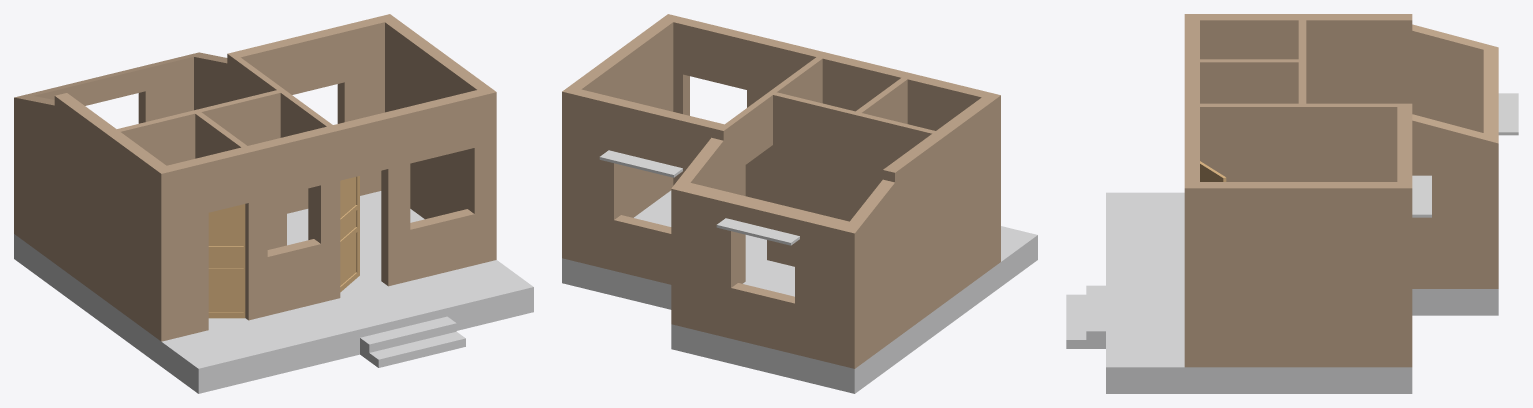
File: House_Type_4.glb
3 views of the same model, side by side, from view 1: azimuth 30°, elevation 25°; view 2: azimuth 150°, elevation 25°; view 3: azimuth 270°, elevation 25° (orthographic). The views are drawn at different scales.
Parts seen in each view (by area): view 1: imagetostl_mesh165; view 2: imagetostl_mesh165; view 3: imagetostl_mesh165.
Part boxes in pixels (x1=…): imagetostl_mesh165: x1=14, y1=14, x2=533, y2=393; imagetostl_mesh165: x1=562, y1=14, x2=1037, y2=393; imagetostl_mesh165: x1=1066, y1=14, x2=1518, y2=393.
Size of the model in its own units: 247 by 136 by 271.
